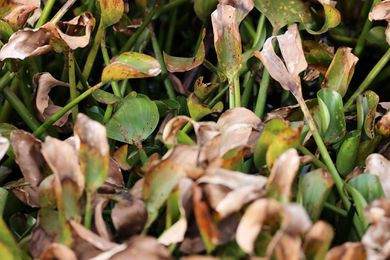water_hyacinth: (0, 0, 390, 260)
